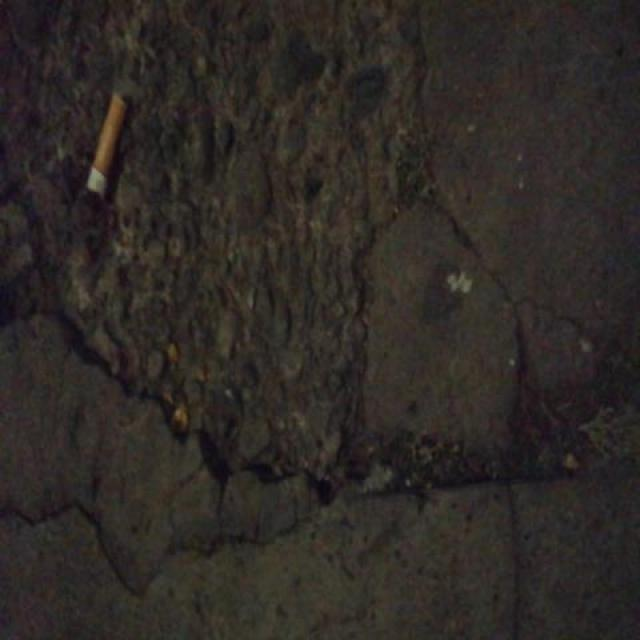non-organic waste: (83, 88, 132, 200)
